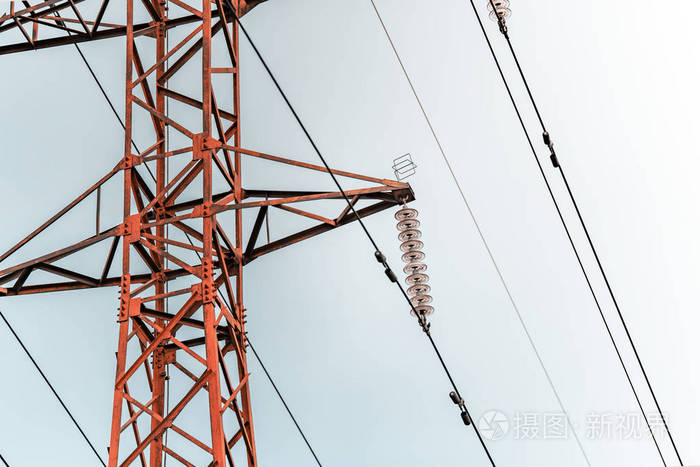insulator: (395, 208, 433, 321)
